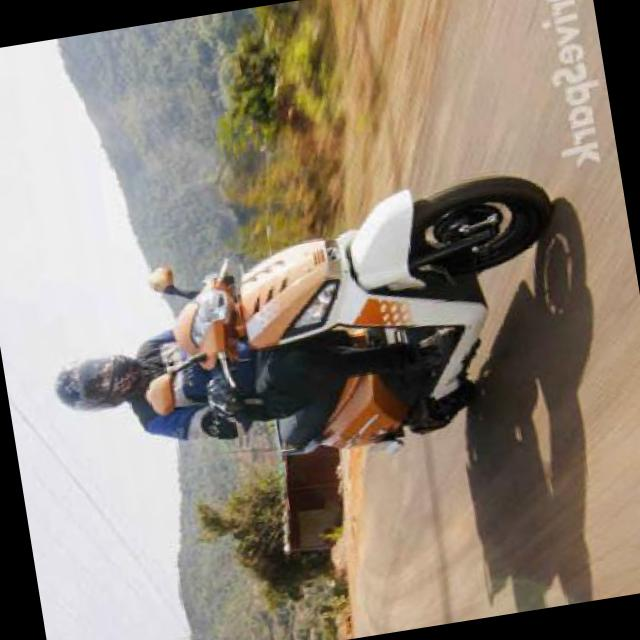With Helmet: (44, 338, 154, 421)
